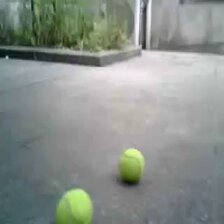tennis: (54, 187, 94, 224), (116, 147, 145, 180)
